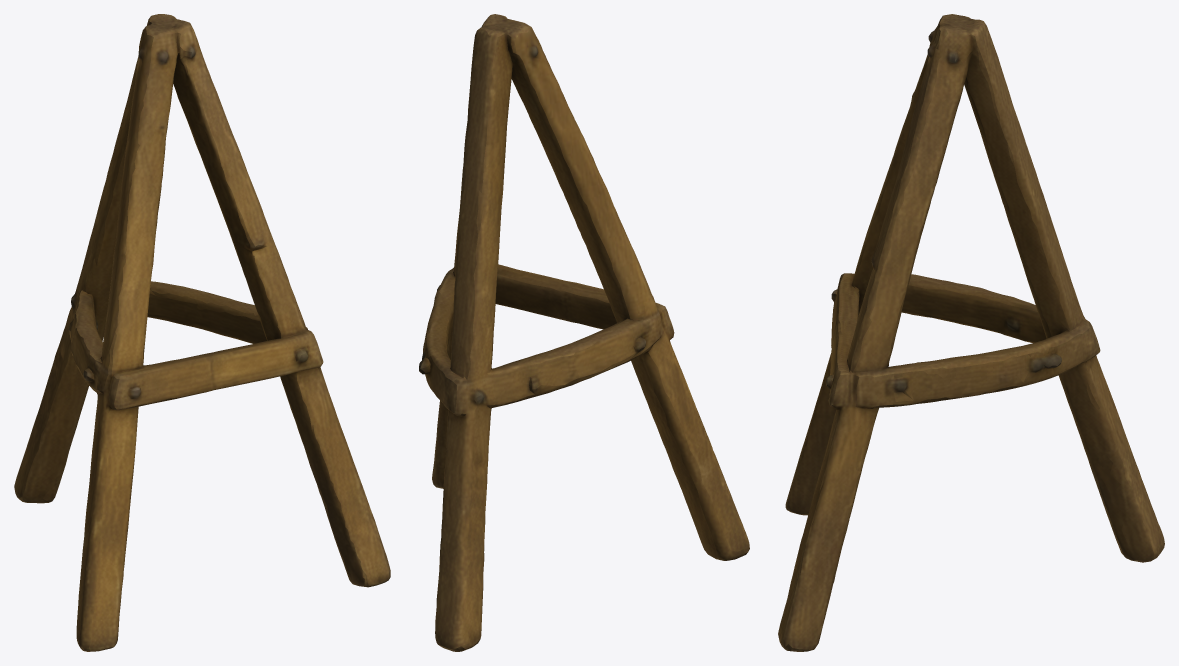
The model's file is wreath-stand.glb.
3 renders of one model, left to right at view 1: azimuth 30°, elevation 25°; view 2: azimuth 150°, elevation 25°; view 3: azimuth 270°, elevation 25°, orthographic. The views are drawn at different scales.
Parts seen in each view (by area): view 1: world; view 2: world; view 3: world.
Part boxes in pixels (bbox=[...]): world: bbox=[14, 14, 390, 651]; world: bbox=[419, 14, 749, 651]; world: bbox=[778, 14, 1164, 651].
Bounding box in the file's own units: 0.5999 × 1 × 0.6269.
1 material, 1 textured.
